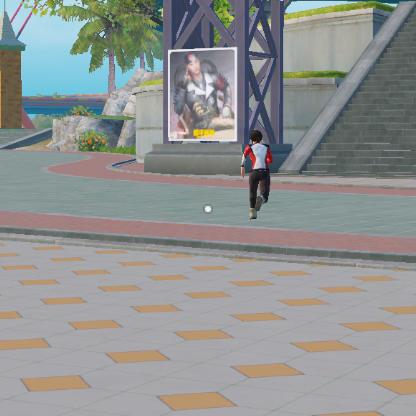ren: (176, 47, 233, 139), (237, 130, 273, 219)
tou: (181, 53, 205, 76), (251, 130, 264, 145)
